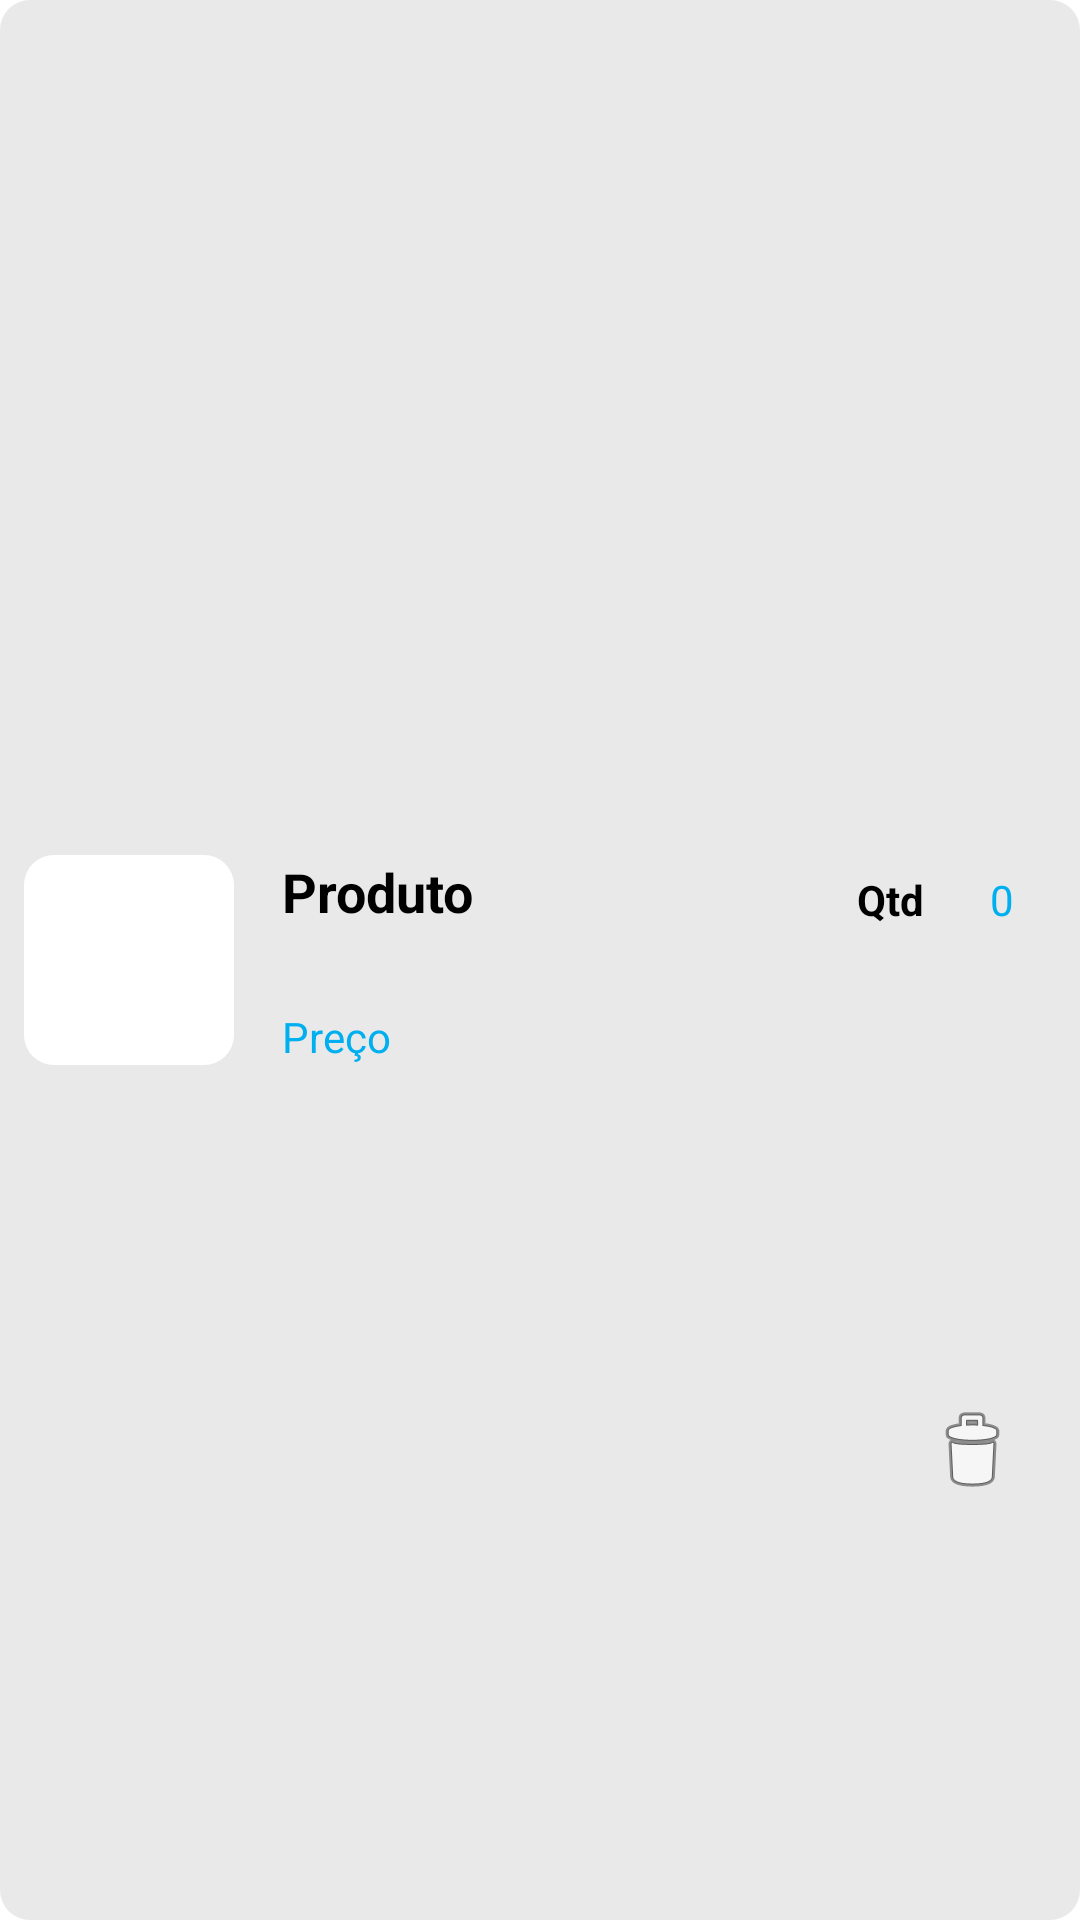

Icon bounding boxes for this 1080*1920 phone screenshot, format (x1, y1, x2, y2):
delete: (945, 1412, 1000, 1487)
